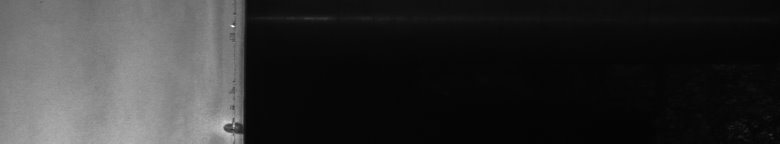hb: (212, 33, 232, 136)
